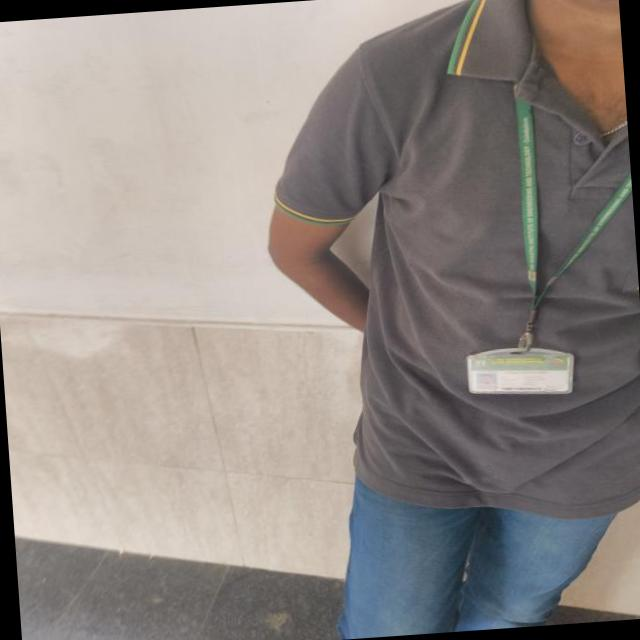id_card: (446, 83, 640, 400)
